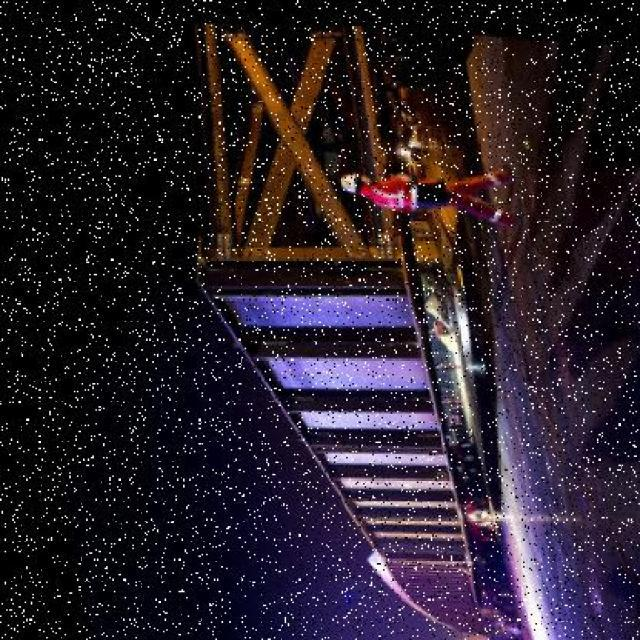helmet: (334, 166, 358, 186)
vest: (354, 171, 416, 203)
